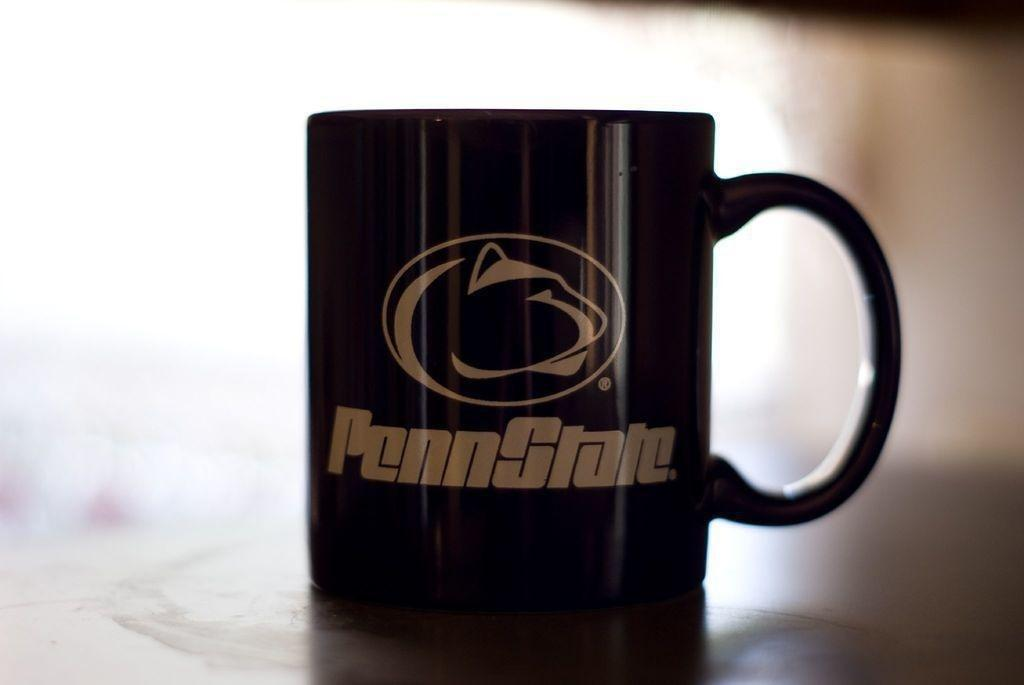cup-handle: (300, 104, 906, 624)
